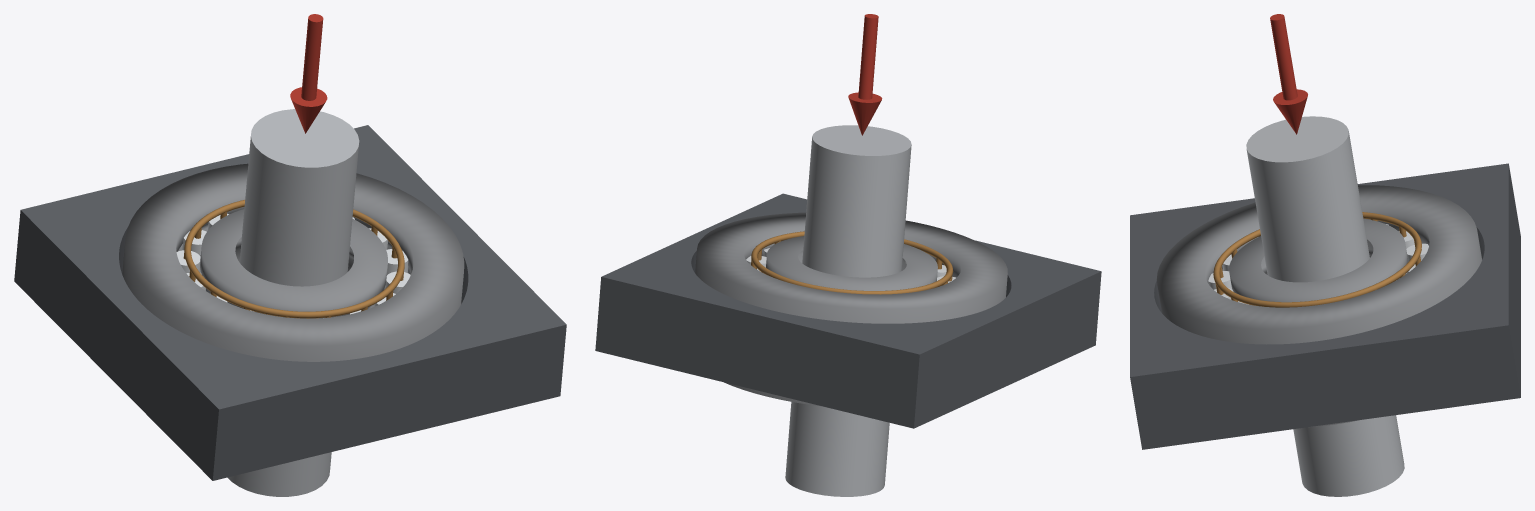
The model's file is rolling-bearing.glb.
3 views of the same model, side by side, from view 1: azimuth 30°, elevation 25°; view 2: azimuth 150°, elevation 25°; view 3: azimuth 270°, elevation 25° (orthographic). The views are drawn at different scales.
Parts seen in each view (by area): view 1: housing_block, outer_race, shaft, inner_race, cage_rim_1, load_arrow_shaft, load_arrow_head; view 2: housing_block, shaft, outer_race, inner_race, cage_rim_1, load_arrow_shaft, load_arrow_head; view 3: housing_block, shaft, outer_race, inner_race, cage_rim_1, load_arrow_shaft, load_arrow_head.
Boxes of the visible parts, <box> form: housing_block: <box>14,125,566,480</box>; outer_race: <box>122,163,464,361</box>; shaft: <box>227,109,359,496</box>; inner_race: <box>200,209,387,318</box>; cage_rim_1: <box>184,200,404,318</box>; load_arrow_shaft: <box>301,14,323,100</box>; load_arrow_head: <box>290,87,327,133</box>; housing_block: <box>595,193,1101,428</box>; shaft: <box>785,125,911,496</box>; outer_race: <box>695,212,1007,406</box>; inner_race: <box>766,236,937,290</box>; cage_rim_1: <box>751,231,953,294</box>; load_arrow_shaft: <box>858,14,878,99</box>; load_arrow_head: <box>848,92,882,135</box>; housing_block: <box>1130,163,1520,449</box>; shaft: <box>1246,116,1404,496</box>; outer_race: <box>1156,185,1481,427</box>; inner_race: <box>1229,219,1408,302</box>; cage_rim_1: <box>1213,212,1421,307</box>; load_arrow_shaft: <box>1270,14,1297,100</box>; load_arrow_head: <box>1273,89,1307,134</box>.
Size of the model in its own units: 2.36 by 3.16 by 2.41.
